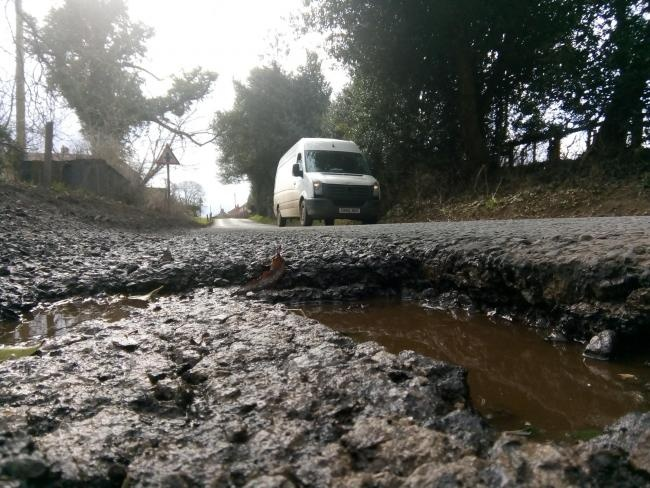pothole: (42, 179, 650, 438)
